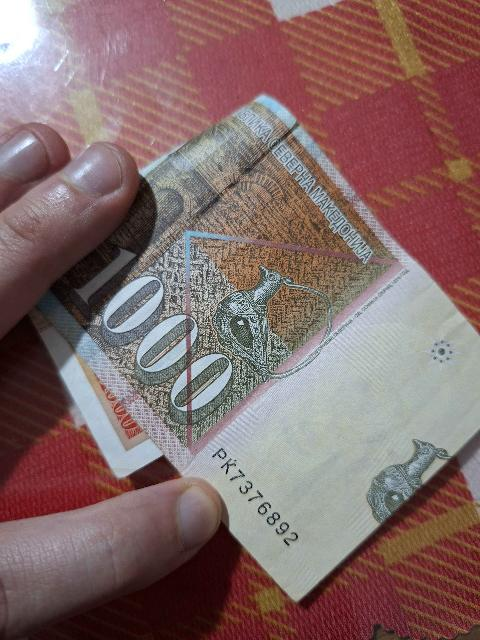1000_note: (41, 98, 479, 598)
